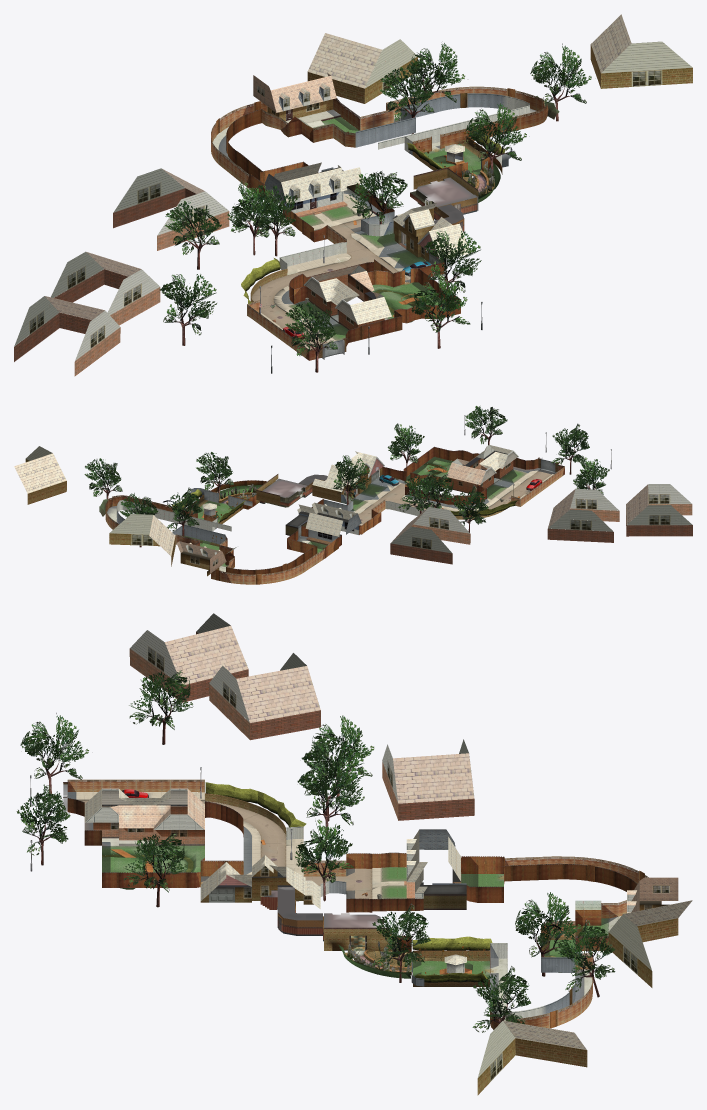
Rendered from toysinthehood2.glb.
The picture shows the model from 3 angles, top to bottom: view 1: azimuth 30°, elevation 25°; view 2: azimuth 150°, elevation 25°; view 3: azimuth 270°, elevation 25°; orthographic projection. The views are drawn at different scales.
Visible parts, largest first — view 1: mesh; view 2: mesh; view 3: mesh.
Boxes of the visible parts, bbox=[...] form: mesh: bbox=[14, 14, 692, 376]; mesh: bbox=[14, 406, 692, 584]; mesh: bbox=[16, 613, 692, 1095].
Size of what is drawn, in the model's own units: 600 by 65.39 by 396.
11 materials, 10 textured.
